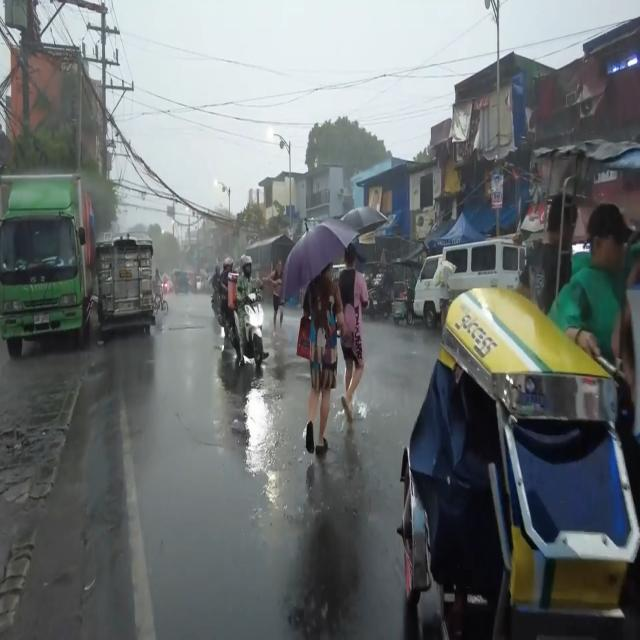full: (240, 255, 253, 278)
half: (222, 255, 234, 276), (215, 264, 221, 278)
